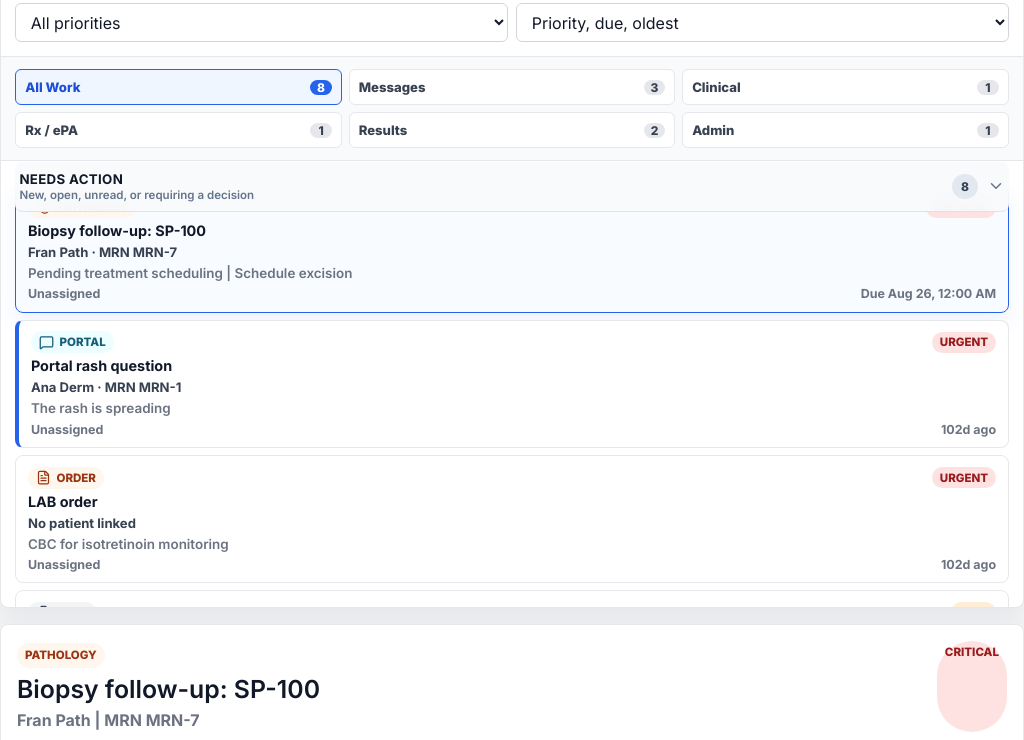
Test: ClinicalInboxPage › moves a thread into its workflow group immediately after a status change
(page scrolled)
Expected: the text "Portal rash question" is shown, [31,358,172,374]
Click the button "Portal rash question": (72,342) [15,320,1009,448]
(page scrolled)
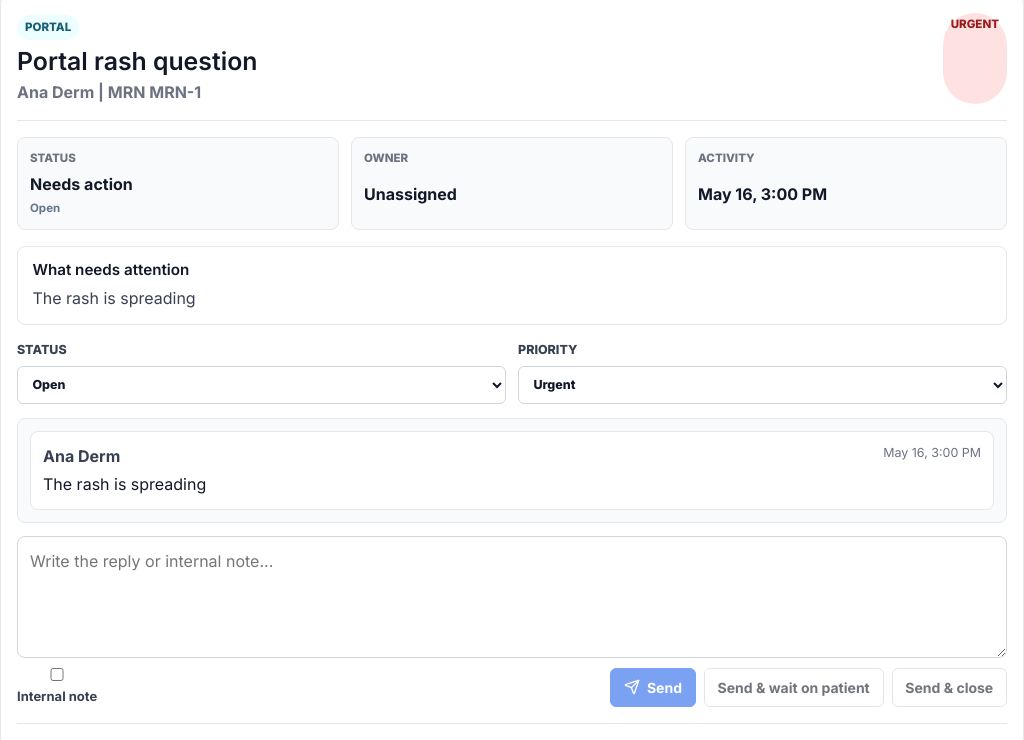
Select "Waiting Provider" in the dropdown labelled "Status": (262,385) [17,366,506,404]
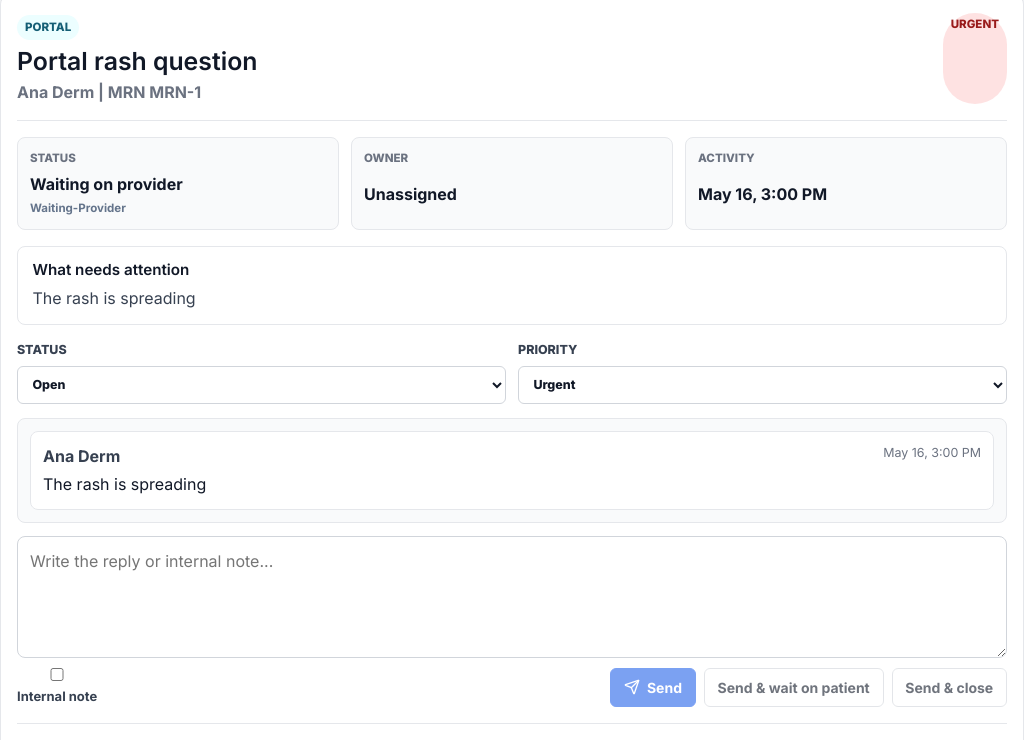
Result: the text "Waiting on provider" is shown at [30,174,183,194]
